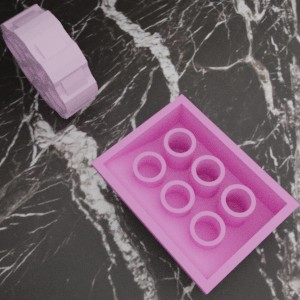lego: (91, 94, 299, 295), (0, 4, 98, 118)
